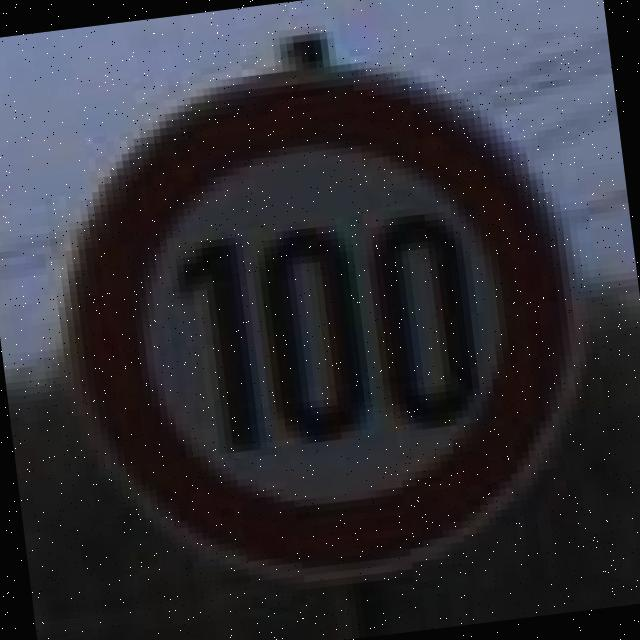Ograniczenie predkosci do 100: (25, 32, 616, 616)
